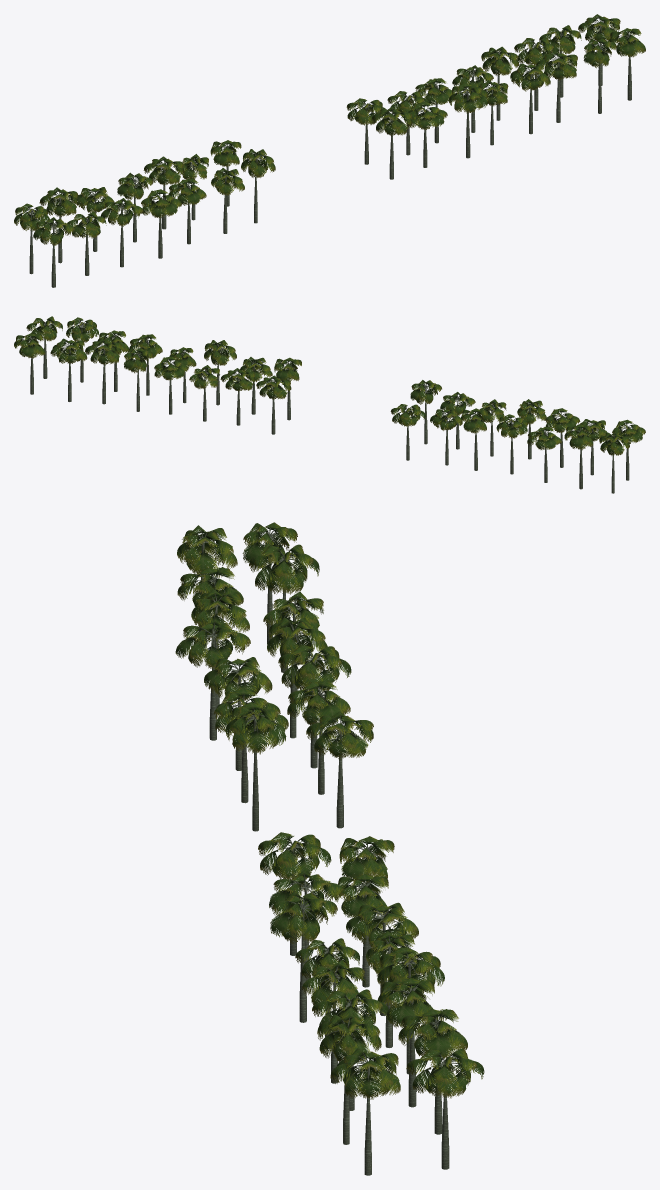
3 views of the same model, one above another, from view 1: azimuth 30°, elevation 25°; view 2: azimuth 150°, elevation 25°; view 3: azimuth 270°, elevation 25° (orthographic). The views are drawn at different scales.
Visible parts, largest first — view 1: Sands promenade palm fronds and bark; view 2: Sands promenade palm fronds and bark; view 3: Sands promenade palm fronds and bark.
Part boxes in pixels (x1=…): Sands promenade palm fronds and bark: x1=14, y1=14, x2=645, y2=287; Sands promenade palm fronds and bark: x1=14, y1=316, x2=645, y2=493; Sands promenade palm fronds and bark: x1=175, y1=522, x2=484, y2=1175.
Size of the model in its own units: 71.87 by 7.49 by 16.85.
Materials: 1 (1 with a texture image).
